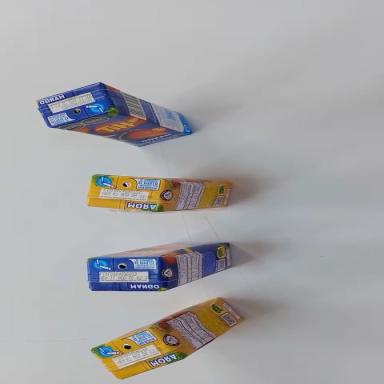HIT-MANGO: (32, 69, 198, 159), (87, 242, 232, 294)
HIT-MORA: (89, 292, 249, 384), (87, 173, 232, 216)
cara_F: (49, 97, 191, 161), (89, 228, 228, 273)
